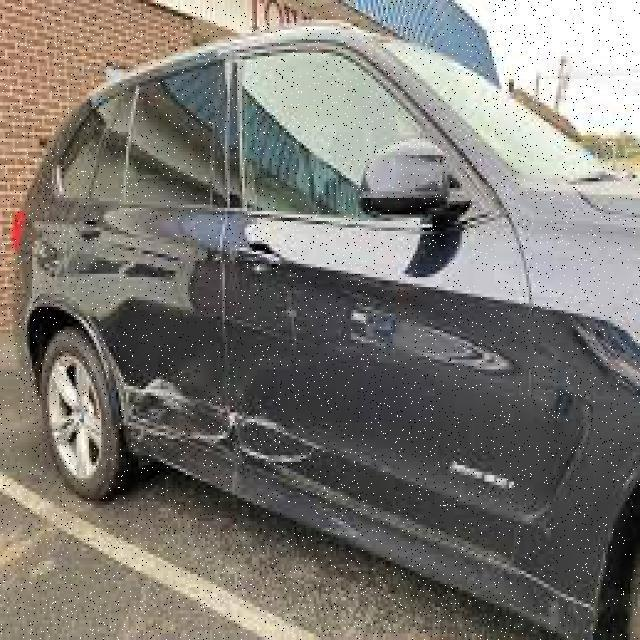RunningBoard-Dent: (298, 494, 470, 588)
doorouter-dent: (227, 217, 524, 448), (67, 211, 230, 445)
